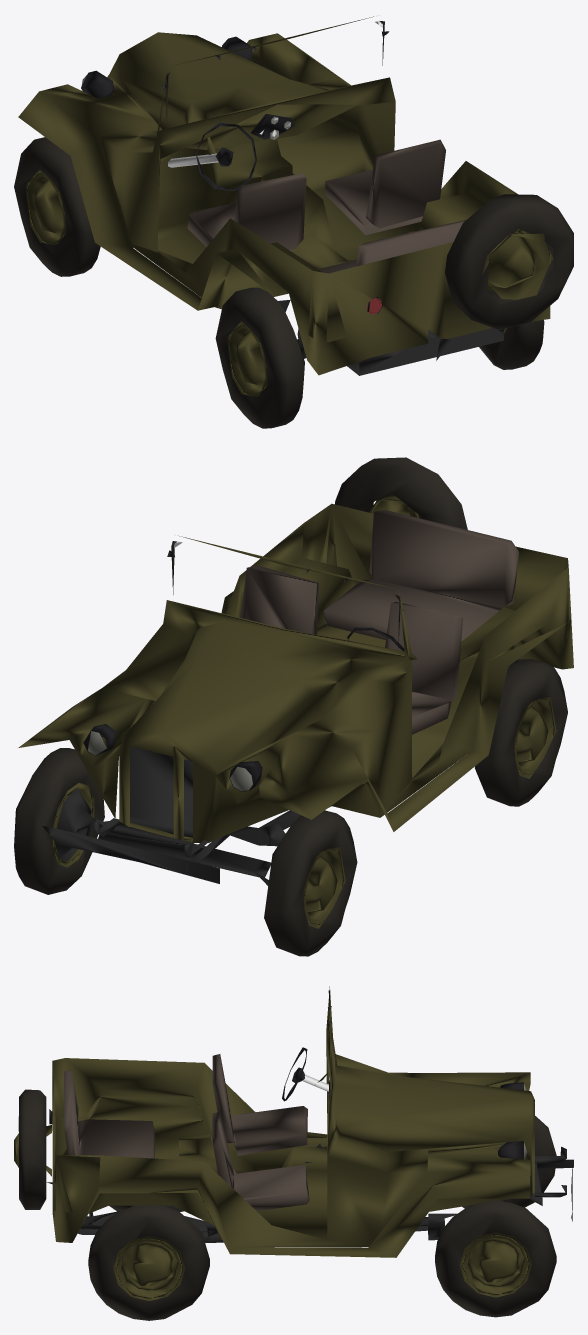
Rendered from gaz67_enkel.glb.
3 views of the same model, one above another, from view 1: azimuth 30°, elevation 25°; view 2: azimuth 150°, elevation 25°; view 3: azimuth 270°, elevation 25° (orthographic). The views are drawn at different scales.
Parts seen in each view (by area): view 1: GAZ-67b BODY, details, wheel RL, wheel FL, frame, wheel RR, steer wheel; view 2: GAZ-67b BODY, wheel FL, wheel RL, wheel FR, frame, details; view 3: GAZ-67b BODY, wheel RR, wheel FR, details, frame, wheel FL.
Part boxes in pixels (left/top/right/bottom): GAZ-67b BODY: left=18, top=16, right=550, bottom=375; details: left=168, top=114, right=573, bottom=329; wheel RL: left=215, top=287, right=304, bottom=428; wheel FL: left=14, top=137, right=100, bottom=276; frame: left=278, top=299, right=503, bottom=375; wheel RR: left=479, top=320, right=544, bottom=369; steer wheel: left=195, top=122, right=256, bottom=190; GAZ-67b BODY: left=18, top=503, right=573, bottom=883; wheel FL: left=264, top=810, right=357, bottom=956; wheel RL: left=474, top=659, right=567, bottom=806; wheel FR: left=14, top=748, right=104, bottom=894; frame: left=54, top=659, right=521, bottom=885; details: left=335, top=457, right=467, bottom=529; GAZ-67b BODY: left=52, top=986, right=572, bottom=1257; wheel RR: left=88, top=1204, right=209, bottom=1320; wheel FR: left=435, top=1201, right=556, bottom=1317; details: left=14, top=1072, right=328, bottom=1209; frame: left=47, top=1159, right=573, bottom=1242; wheel FL: left=462, top=1116, right=556, bottom=1208.
Size of the model in its own units: 1.67 by 1.56 by 3.34.
